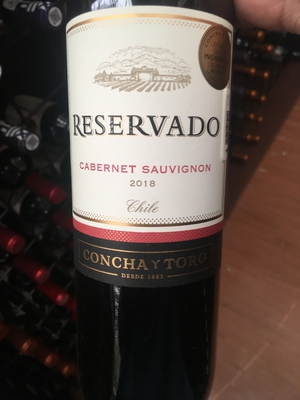reservado cabernet sauvignon: (51, 3, 247, 399)
